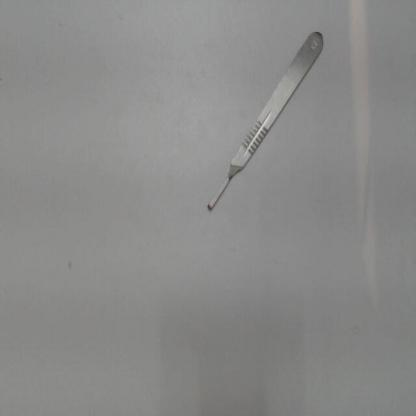No.4 BP Handle: (199, 19, 337, 218)
